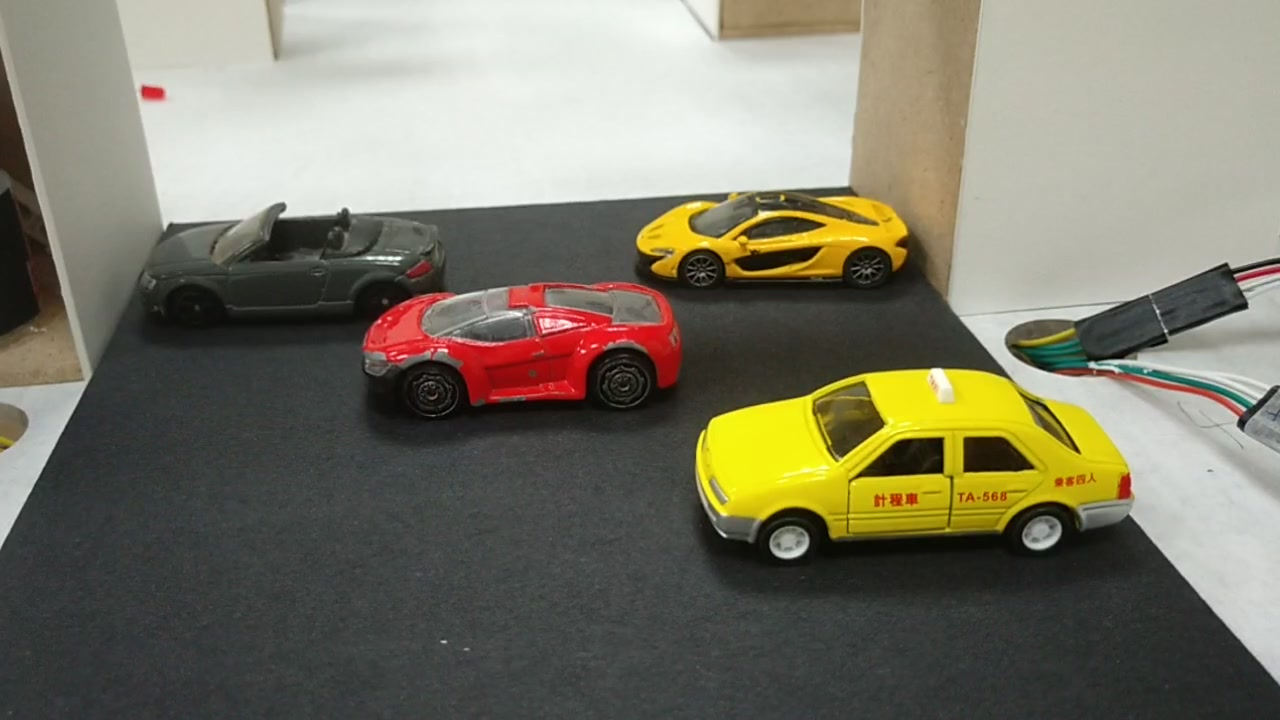car: (705, 381, 1134, 557), (367, 286, 681, 409), (145, 219, 440, 316), (639, 195, 908, 283)
